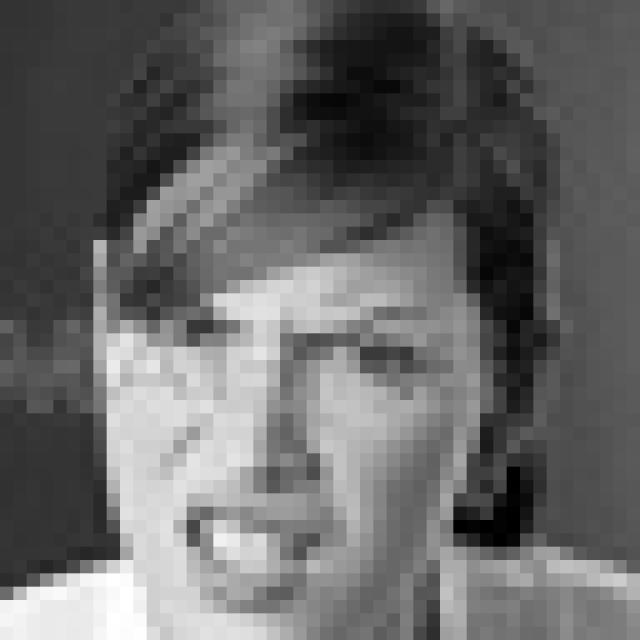angry: (130, 295, 441, 600)
